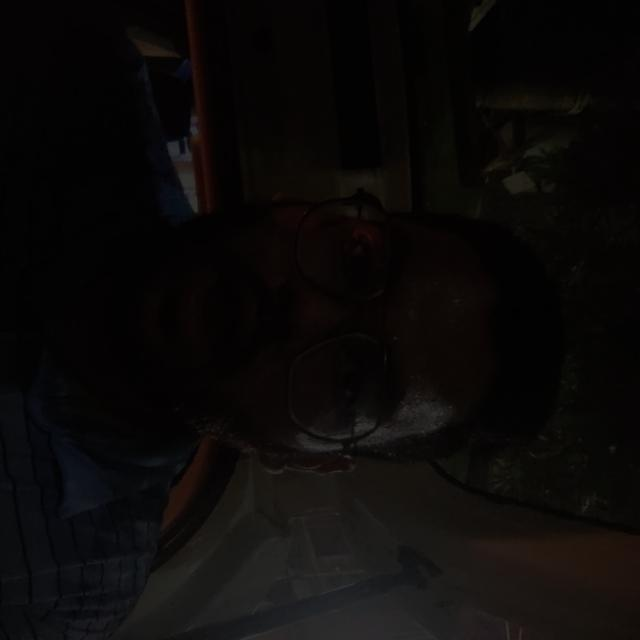Surprised: (79, 171, 507, 494)
